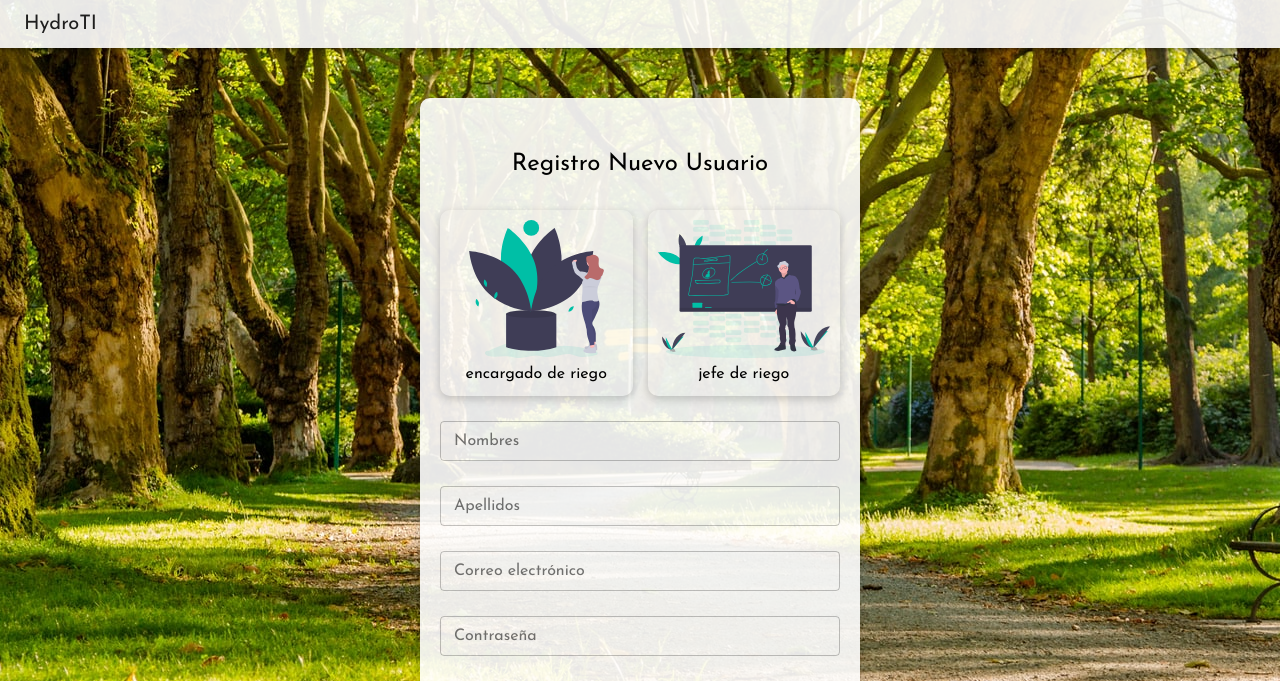
As an user I want to register in the application to enter the plattforms › should check that the name contains only letters and spaces
In the field with id "sign-up-name": (640, 441) [440,421,840,461], type "name 1"
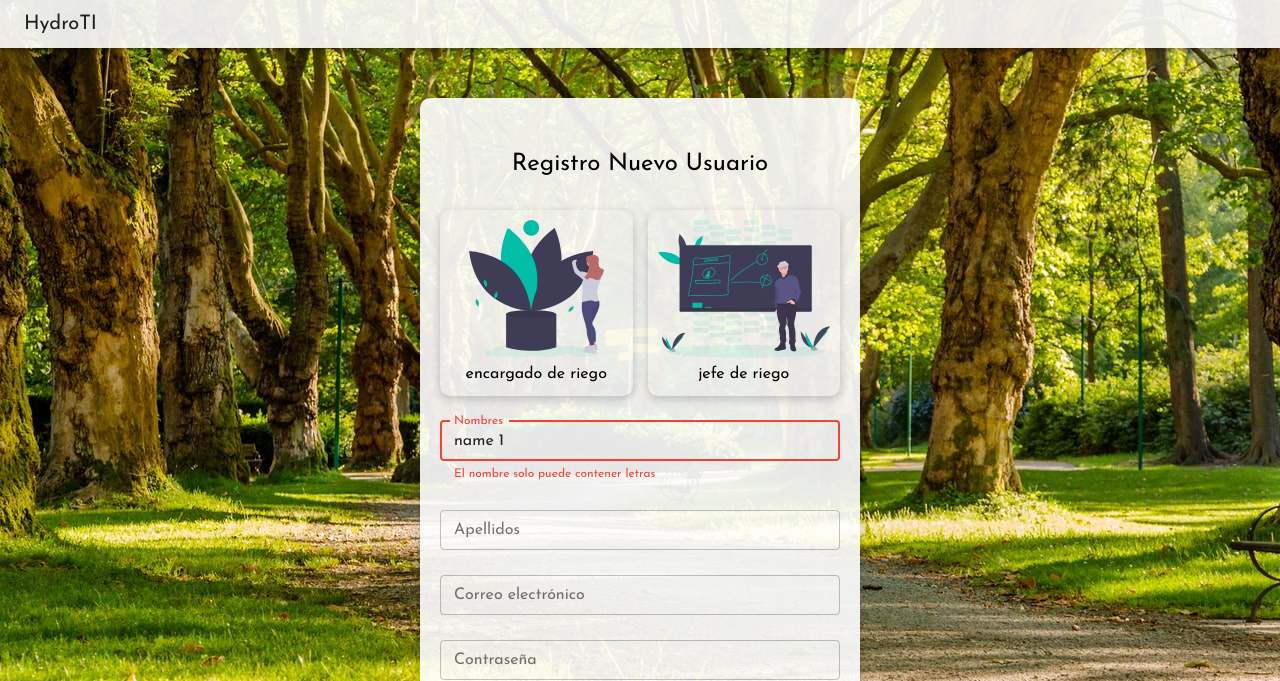
Expected: the text with id "sign-up-name-helper-text" reads "El nombre solo puede contener letras", [454,468,655,480]
